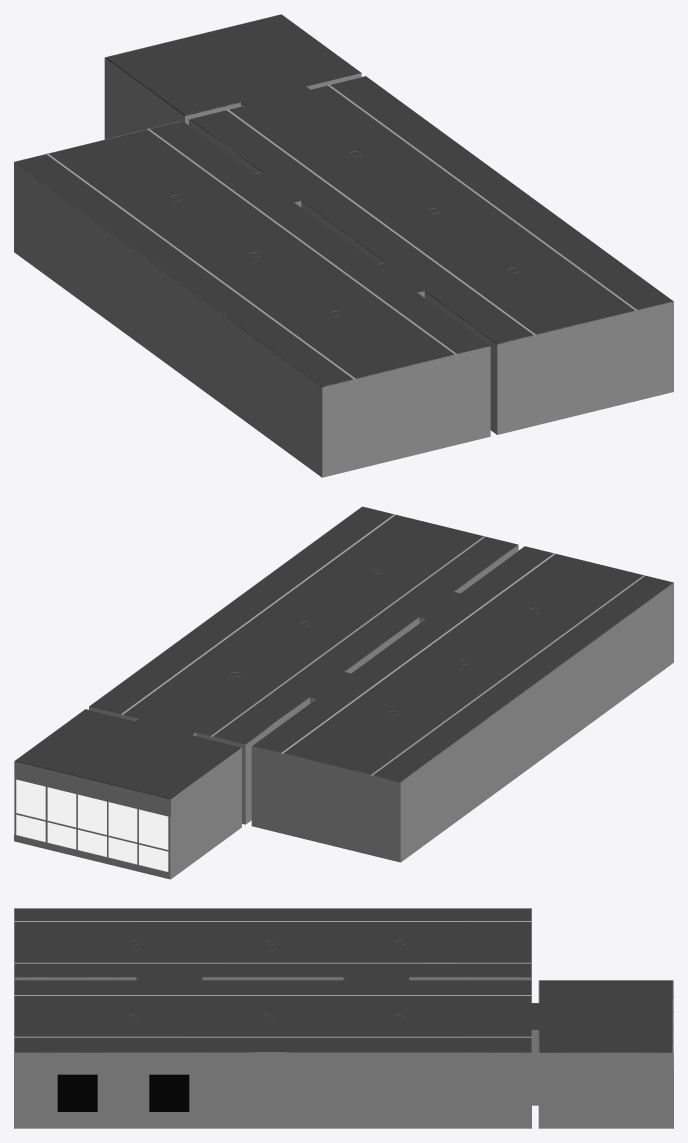
File: gallery.glb
3 views of the same model, one above another, from view 1: azimuth 30°, elevation 25°; view 2: azimuth 150°, elevation 25°; view 3: azimuth 270°, elevation 25° (orthographic). The views are drawn at different scales.
Parts seen in each view (by area): view 1: Wall.002, Wall.001, Lights.002, Lights.001, Lights.004, Lights.003; view 2: Wall.002, Wall.001, Window.001, Lights.002, Lights.001, Lights.004, Lights.003; view 3: Wall.002, Wall.001, Art.004, Art.005, Lights.001, Lights.003, Lights.002, Lights.004.
Boxes of the visible parts, x1,y1,x2,y2 form: Wall.002: (15,14,672,387); Wall.001: (14,14,673,477); Lights.002: (226,109,535,335); Lights.001: (327,84,637,310); Lights.004: (46,153,355,379); Lights.003: (147,128,456,354); Wall.002: (15,507,672,871); Wall.001: (14,506,673,878); Window.001: (14,779,170,879); Lights.002: (211,536,485,736); Lights.001: (121,514,396,714); Lights.004: (370,575,645,775); Lights.003: (281,553,555,753); Wall.002: (15,908,672,1052); Wall.001: (14,908,673,1128); Art.004: (149,1074,189,1111); Art.005: (57,1074,97,1111); Lights.001: (14,1036,531,1037); Lights.003: (14,962,531,963); Lights.002: (14,995,531,996); Lights.004: (14,921,531,922).
Size of the model in its own units: 24.1 by 5.95 by 46.59.
13 materials, 4 textured.
